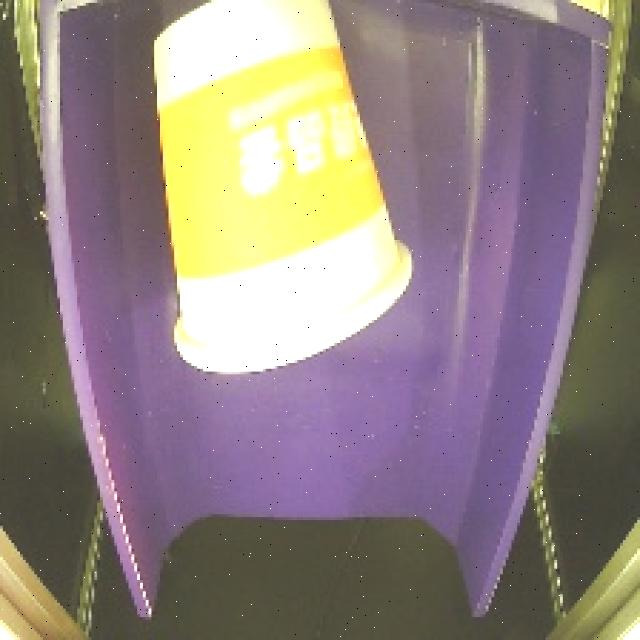cups: (139, 0, 419, 388)
